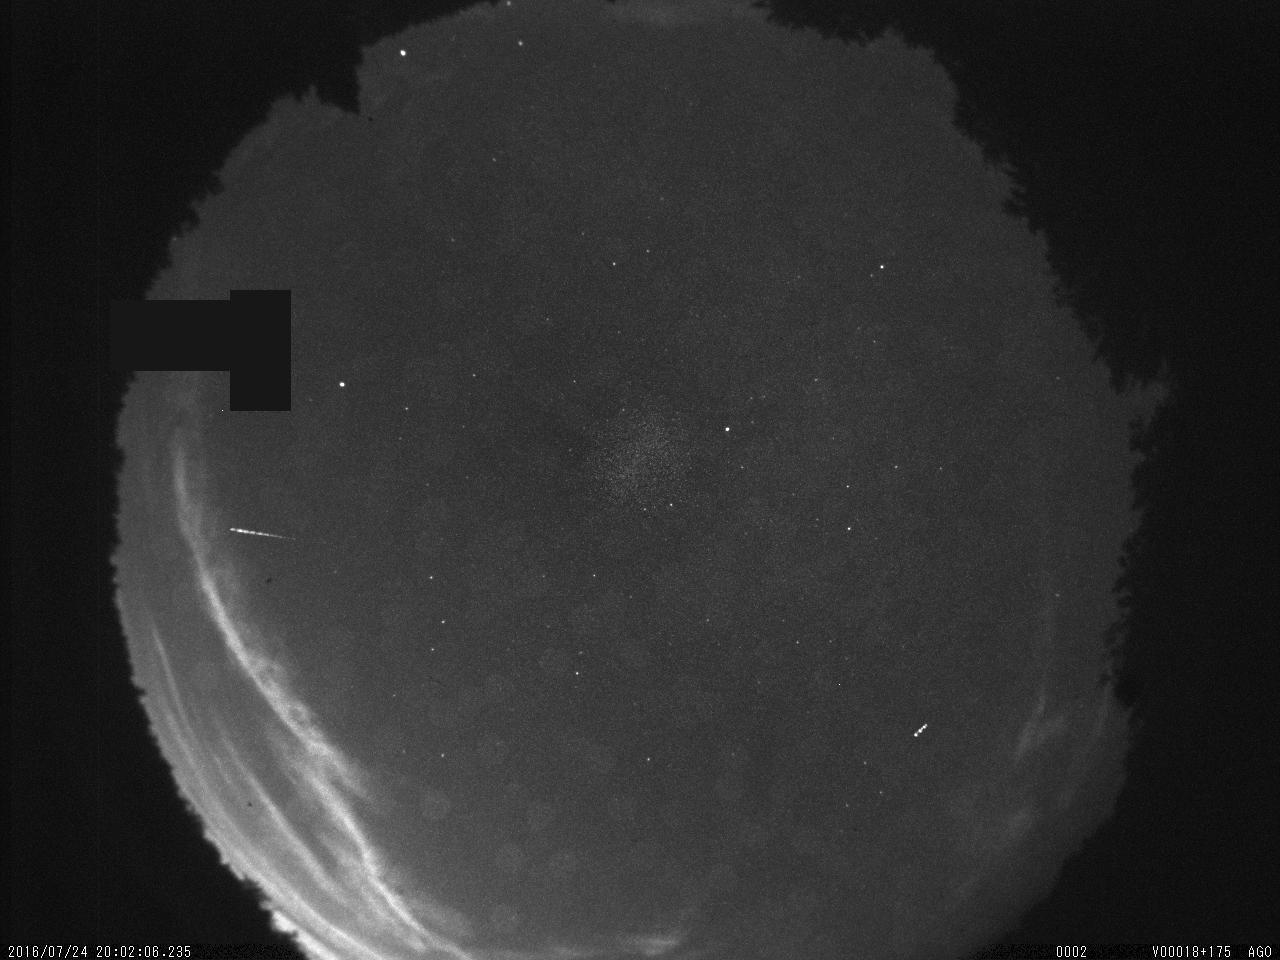meteor: (218, 517, 299, 548)
